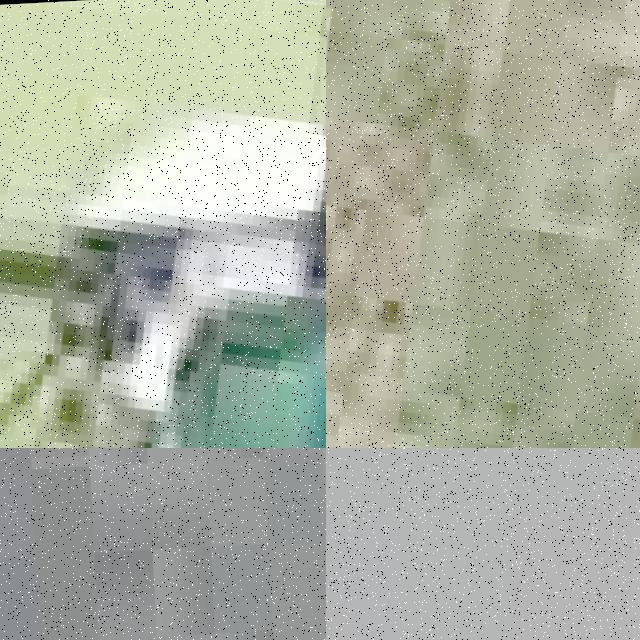drone: (0, 0, 326, 448), (326, 0, 640, 448)
